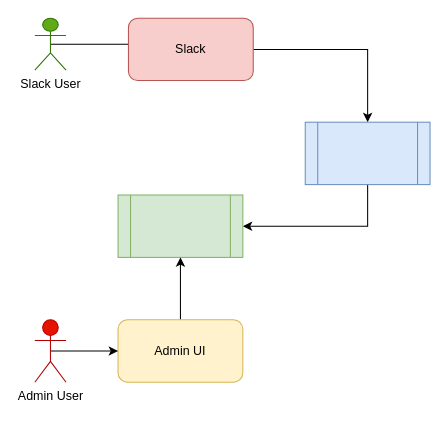
Some shapes in this 448 by 422 pixel diagram are drawn without their labels. The shapes that lost their labels are listed below. From the top down, each one's box as (x1, y1, x2, y2) in pixels, then its label:
(304, 121, 430, 185): Proxy Bot Server
(117, 194, 243, 257): Bot Server
